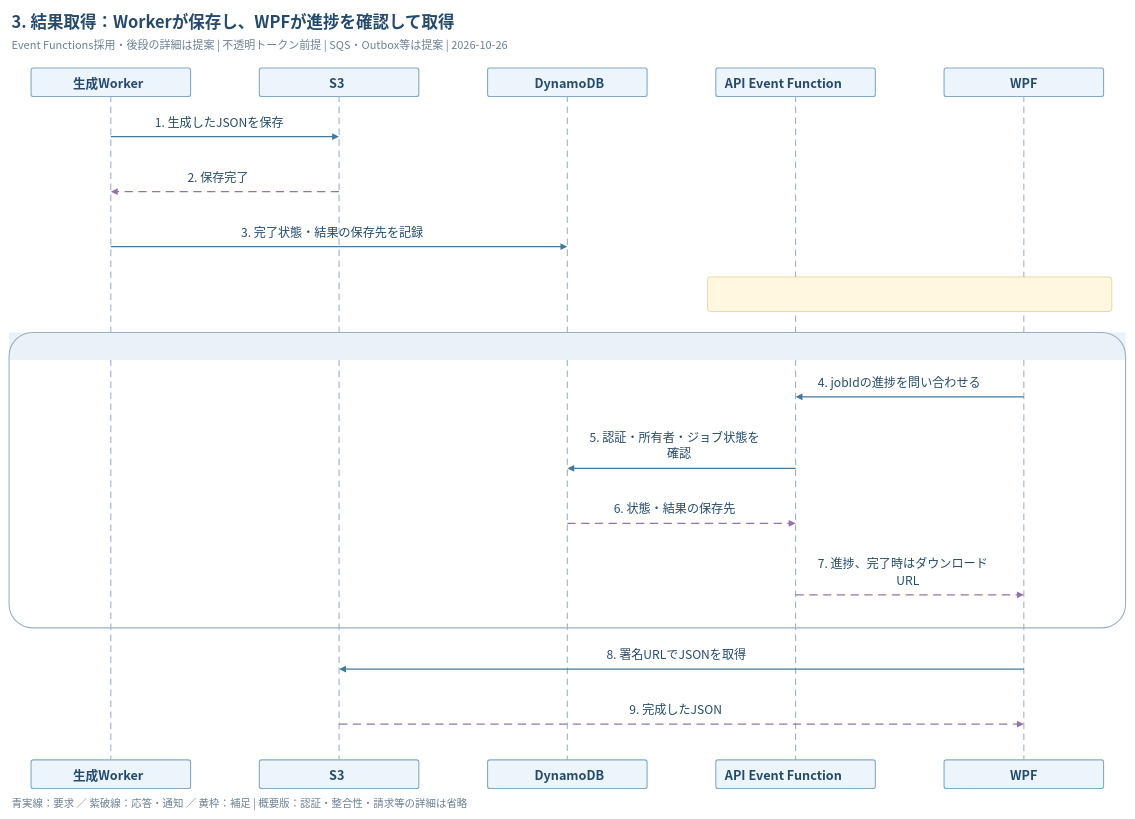
The diagram is 1135 pixels wide and 819 high, and some of its shapes have lost their labels. Each missing label, with the centre of its shape:
"loop：完了まで進捗を確認" belongs at (567,346).
"以下のAPI通信は図1と同じAPI Gateway経由" belongs at (909,294).
